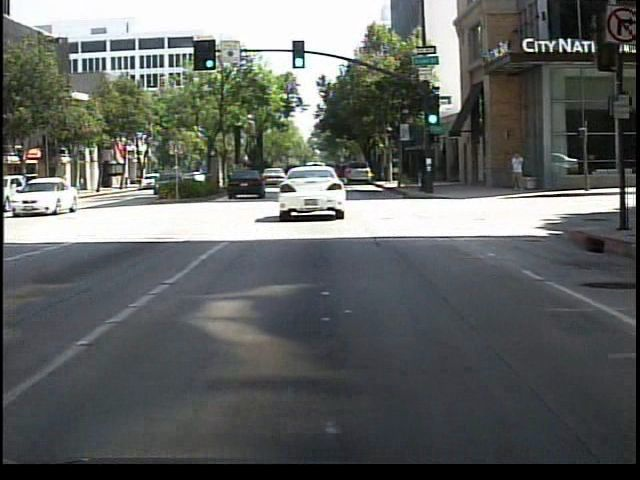person: (508, 151, 528, 197)
